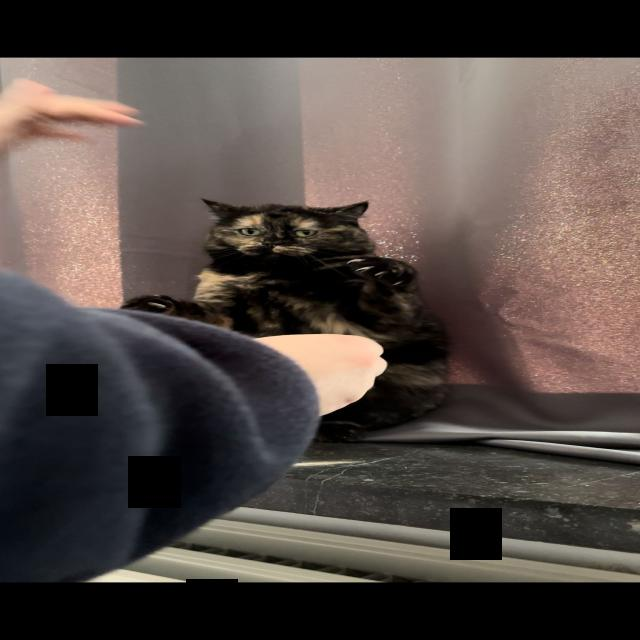authorized: (119, 197, 451, 442)
